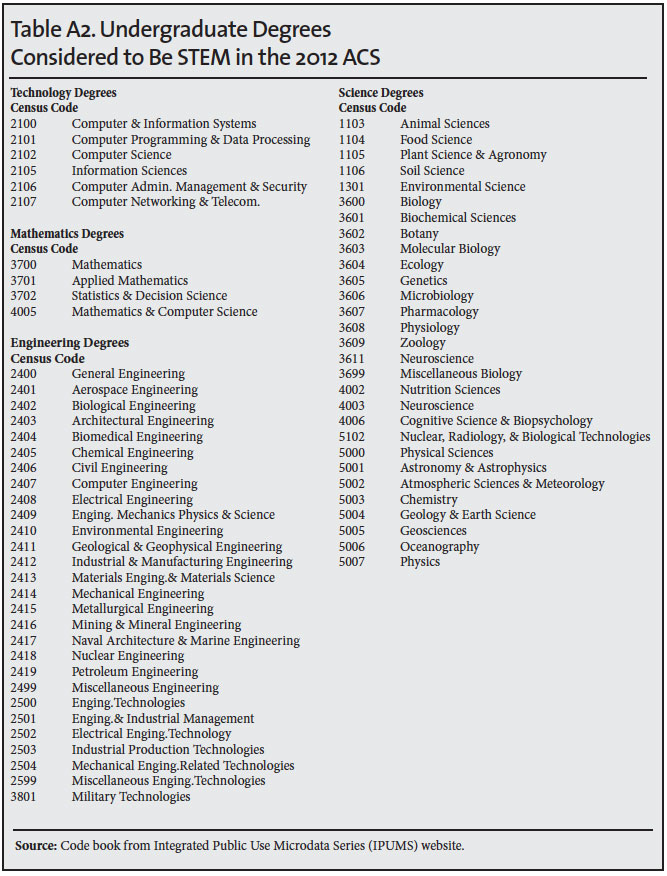fracking table: (6, 77, 662, 832)
